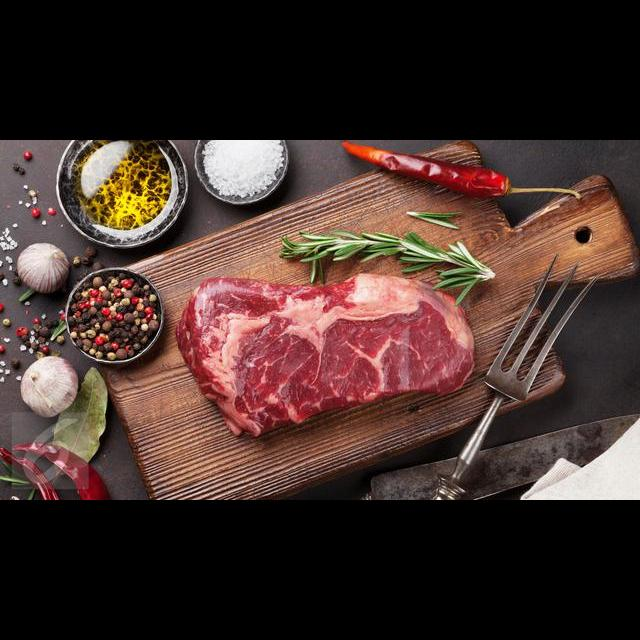beef: (148, 276, 517, 448)
